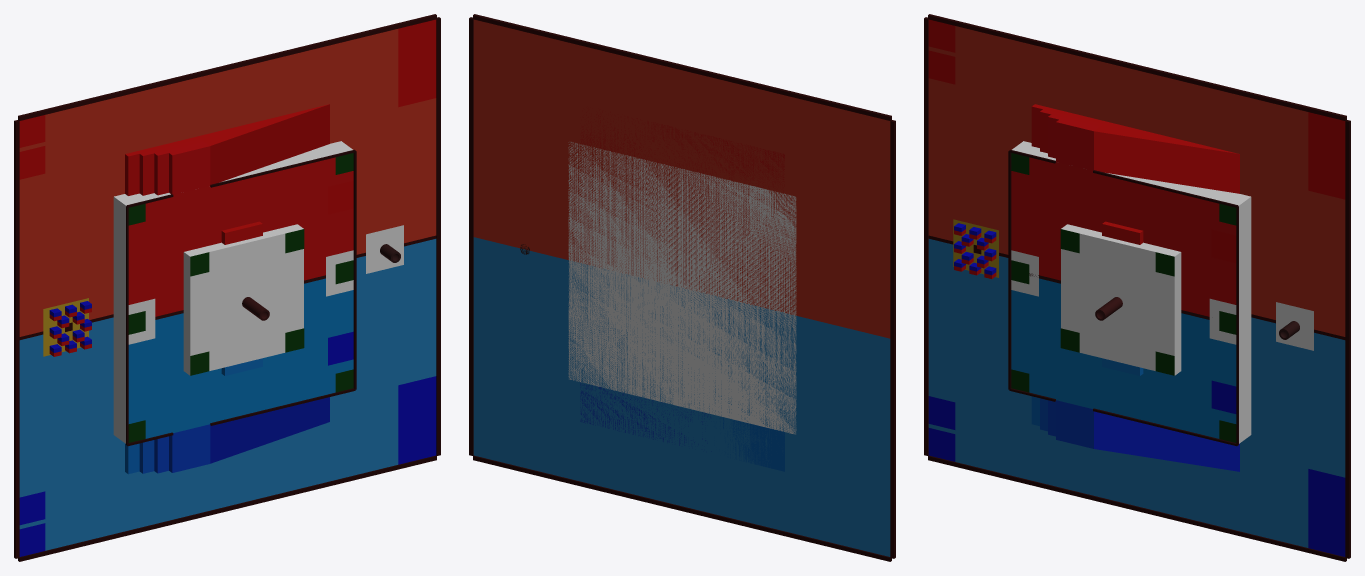
Rendered from robocon_ground.obj.
3 views of the same model, side by side, from view 1: azimuth 30°, elevation 25°; view 2: azimuth 150°, elevation 25°; view 3: azimuth 330°, elevation 25° (orthographic).
Size of the model in its own units: 11.2 by 11.2 by 1.74.
